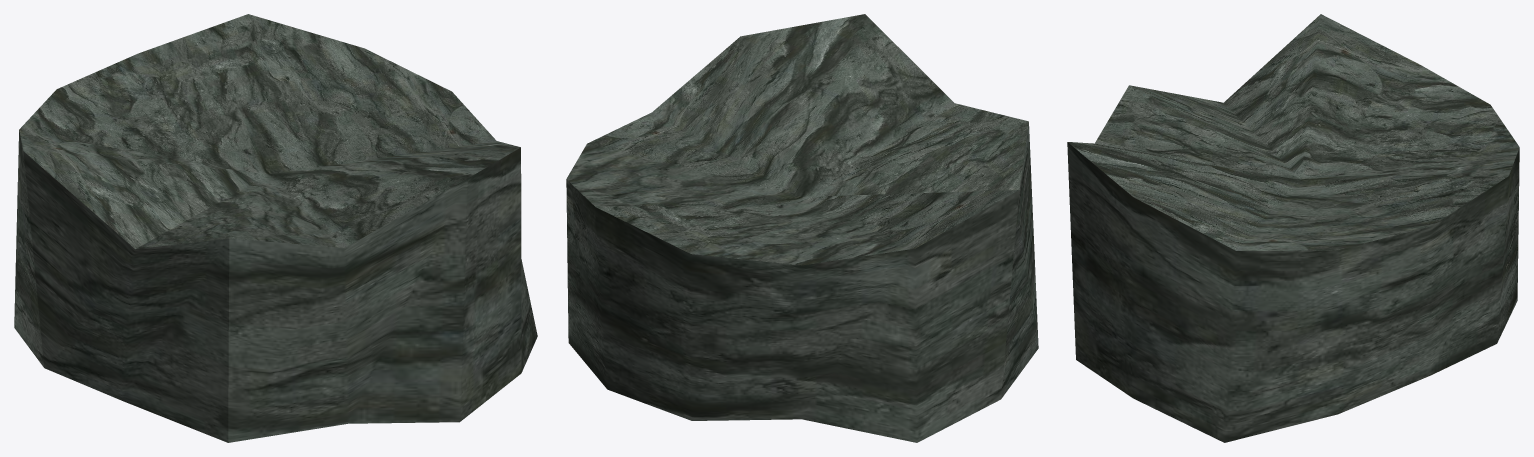
Rendered from rock_8.glb.
3 renders of one model, left to right at view 1: azimuth 30°, elevation 25°; view 2: azimuth 150°, elevation 25°; view 3: azimuth 270°, elevation 25°, orthographic. The views are drawn at different scales.
Visible parts, largest first — view 1: 8-512 (×2); view 2: 8-512 (×2); view 3: 8-512 (×2).
Boxes of the visible parts, box(x1,y1,x2,y2) form: 8-512 (×2): box(14, 14, 537, 442); 8-512 (×2): box(566, 14, 1038, 442); 8-512 (×2): box(1067, 14, 1519, 442).
Size of the model in its own units: 10.67 by 5.79 by 10.22.
Materials: 1 (1 with a texture image).
